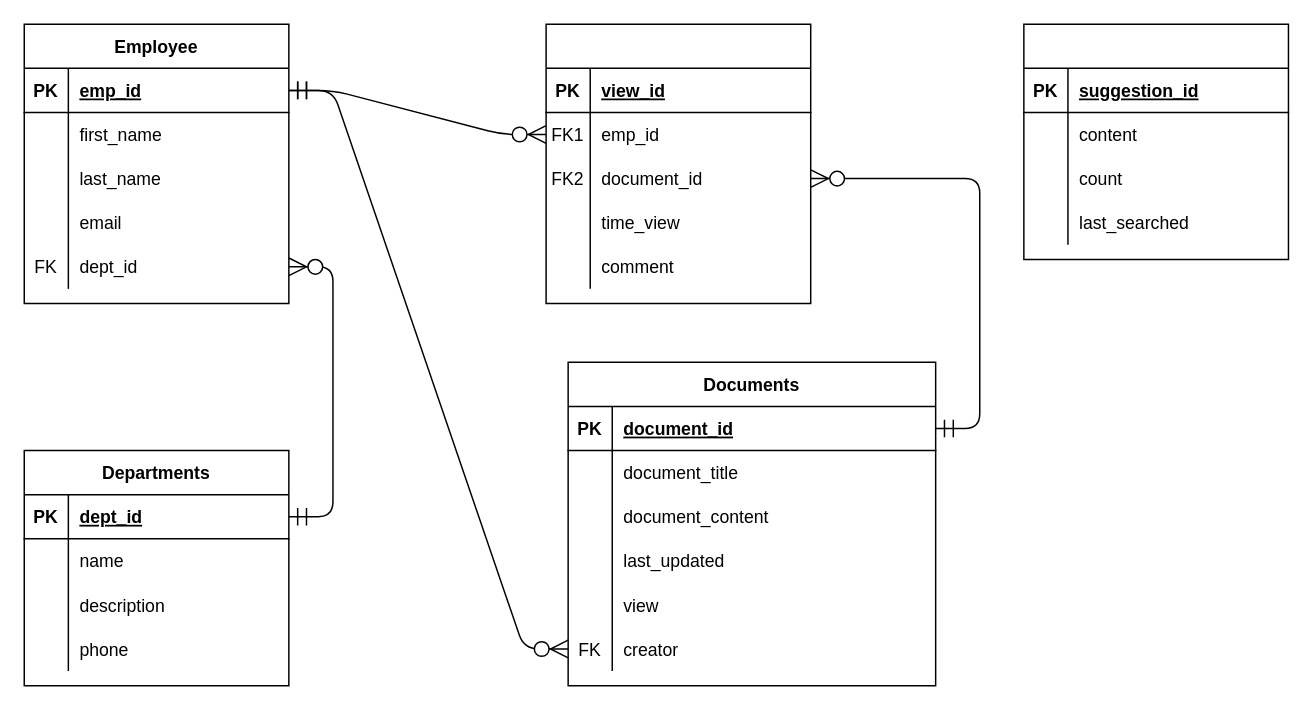
This 1313x710 diagram has some shape labels left out. The shapes that lost their labels are listed below. From the top down, each one's box as (x1, y1, x2, y2) in pixels, then its label:
(1022, 23, 1288, 259): Suggestions
(545, 23, 811, 304): VIews
